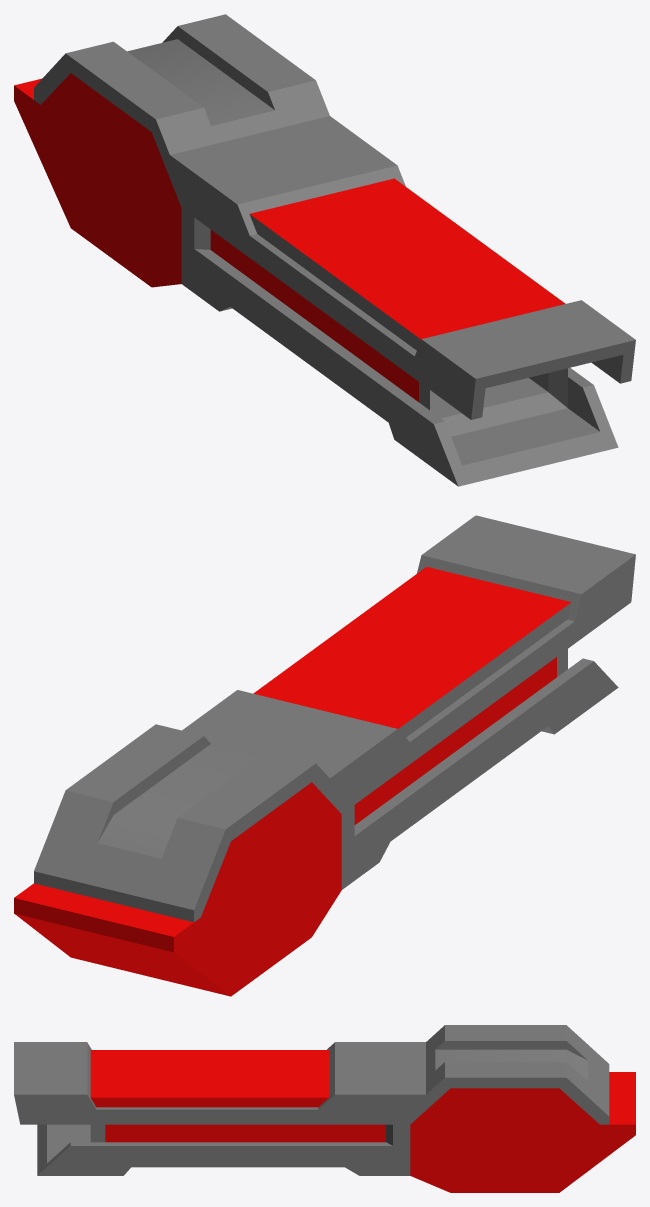
Rendered from Laser.obj.
3 views of the same model, one above another, from view 1: azimuth 30°, elevation 25°; view 2: azimuth 150°, elevation 25°; view 3: azimuth 270°, elevation 25° (orthographic). The views are drawn at different scales.
Parts seen in each view (by area): view 1: Laser TheCube; view 2: Laser TheCube; view 3: Laser TheCube.
Part boxes in pixels (x1=…): Laser TheCube: x1=14, y1=14, x2=635, y2=486; Laser TheCube: x1=14, y1=515, x2=635, y2=996; Laser TheCube: x1=14, y1=1025, x2=635, y2=1192.
Size of the model in its own units: 3.05 by 3.12 by 15.24.
